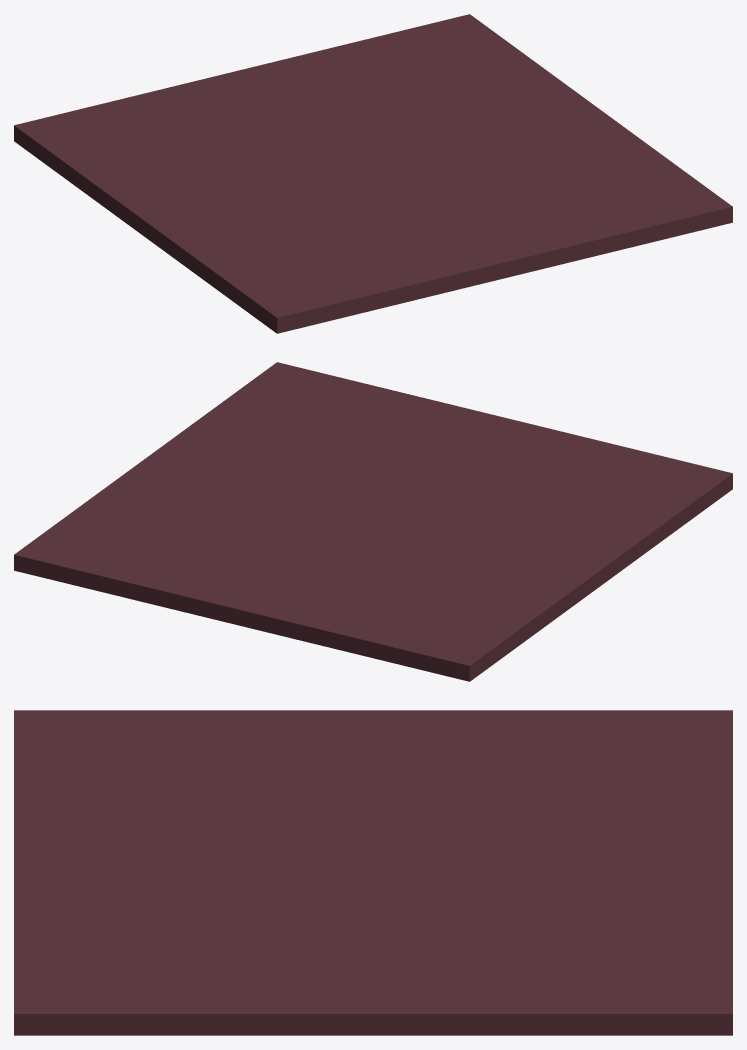
The model's file is SM_Pavement_Mosaic_3x3m_Star_Empire.fbx.
3 views of the same model, one above another, from view 1: azimuth 30°, elevation 25°; view 2: azimuth 150°, elevation 25°; view 3: azimuth 270°, elevation 25° (orthographic). The views are drawn at different scales.
Parts seen in each view (by area): view 1: SM_Pavement_Mosaic_3x3m_Star_Empire; view 2: SM_Pavement_Mosaic_3x3m_Star_Empire; view 3: SM_Pavement_Mosaic_3x3m_Star_Empire.
Part boxes in pixels (left/top/right/bottom): SM_Pavement_Mosaic_3x3m_Star_Empire: left=14, top=14, right=732, bottom=333; SM_Pavement_Mosaic_3x3m_Star_Empire: left=14, top=362, right=732, bottom=681; SM_Pavement_Mosaic_3x3m_Star_Empire: left=14, top=710, right=732, bottom=1035.
Size of the model in its own units: 3 by 0.1 by 3.
